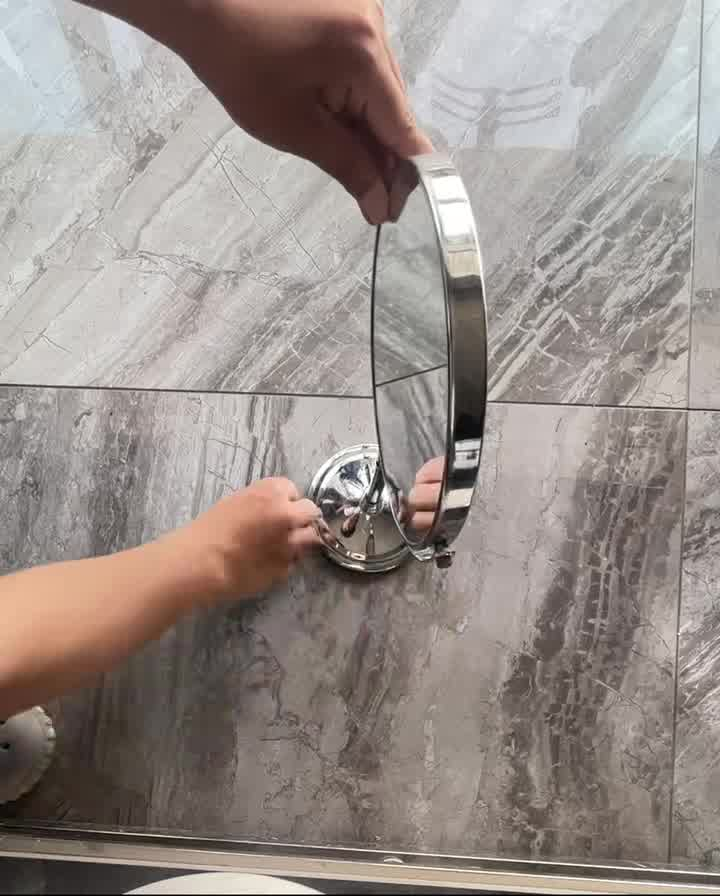base: (302, 436, 415, 580)
mirror: (366, 155, 488, 569)
